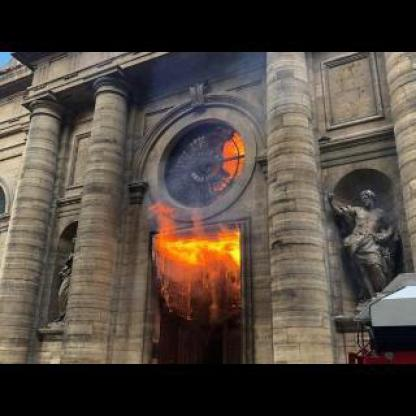fire: (149, 202, 249, 278), (217, 128, 250, 180)
